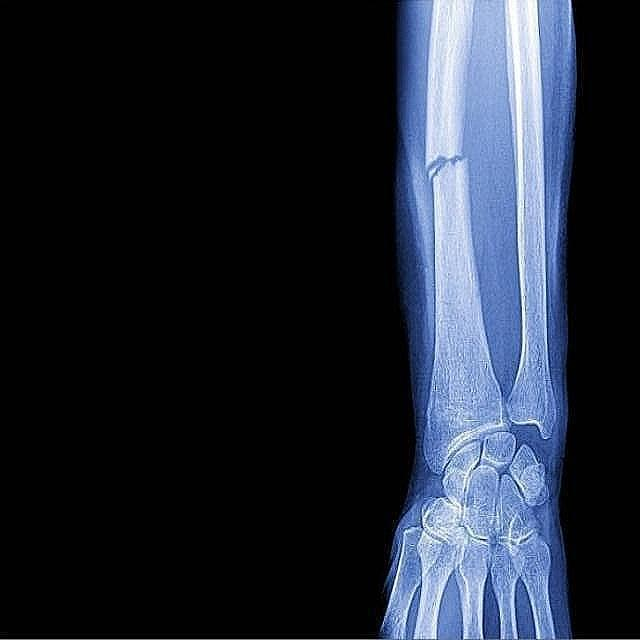bone: (416, 140, 480, 189)
